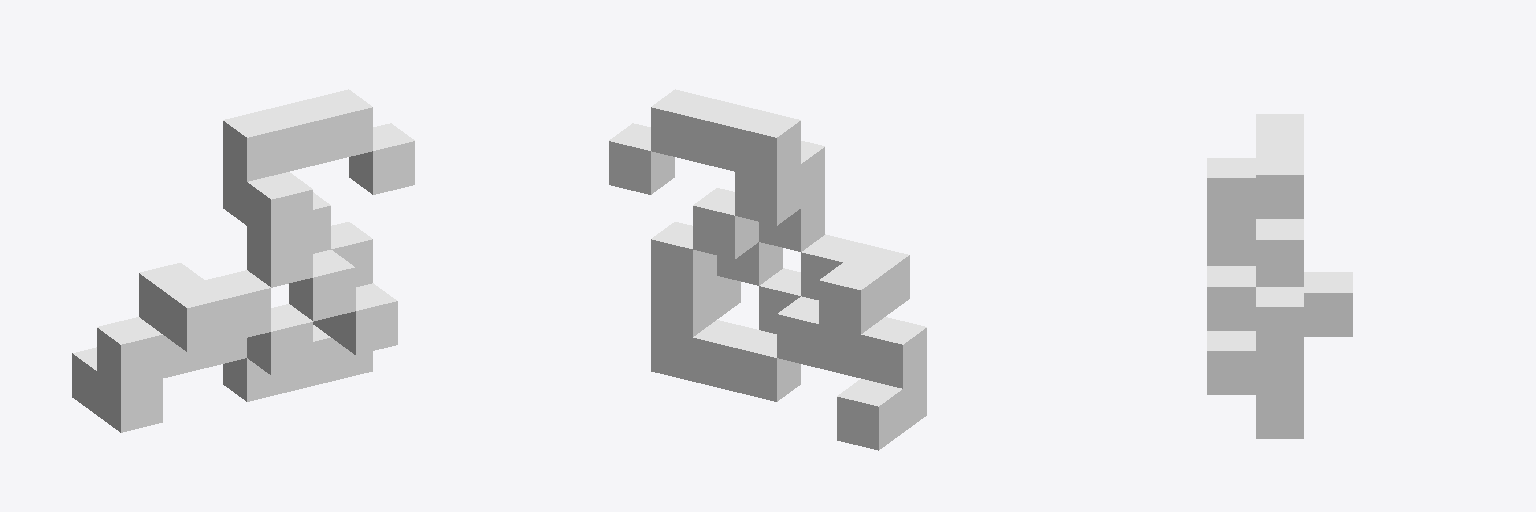
Rendered from GreenBellpepperPiece.obj.
The picture shows the model from 3 angles: view 1: azimuth 30°, elevation 25°; view 2: azimuth 150°, elevation 25°; view 3: azimuth 270°, elevation 25°; orthographic projection.
Visible parts, largest first — view 1: object 1; view 2: object 1; view 3: object 1.
Part boxes in pixels (x1,y1,x2,y2): object 1: (72,89,414,432); object 1: (609,89,926,450); object 1: (1207,114,1352,438).
Size of the model in its own units: 0.7 by 0.6 by 0.3.